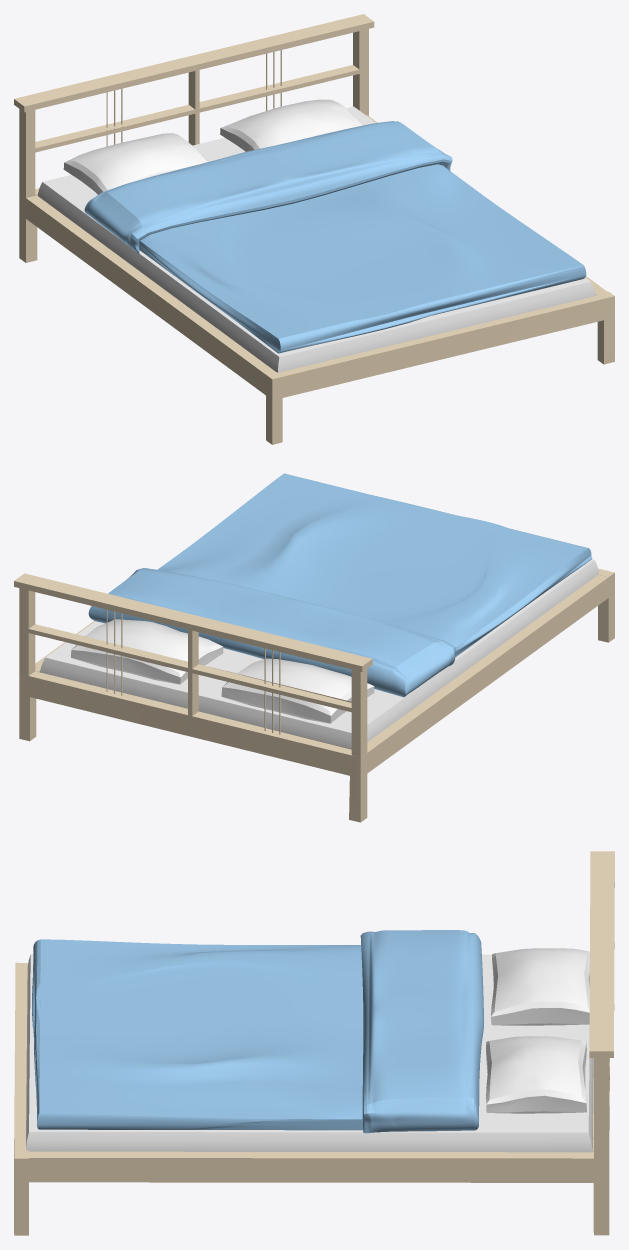
The model's file is IKEA-Dalselv_Bed_160-3D.obj.
3 views of the same model, one above another, from view 1: azimuth 30°, elevation 25°; view 2: azimuth 150°, elevation 25°; view 3: azimuth 270°, elevation 25° (orthographic). The views are drawn at different scales.
Visible parts, largest first — view 1: Layer_0; view 2: Layer_0; view 3: Layer_0.
Part boxes in pixels (<box>): Layer_0: <box>14,14,614,444</box>; Layer_0: <box>14,473,614,822</box>; Layer_0: <box>14,851,614,1235</box>.
Bounding box in the file's own units: 1602 × 699 × 2035.
